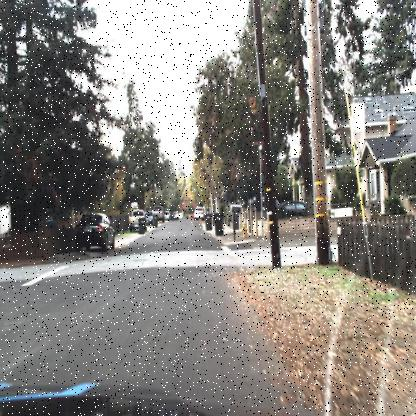car: (72, 208, 115, 255), (75, 208, 117, 251), (274, 192, 325, 212), (249, 186, 280, 209), (126, 207, 148, 235), (128, 206, 148, 236), (154, 205, 167, 222), (193, 204, 204, 218), (144, 211, 153, 227)
